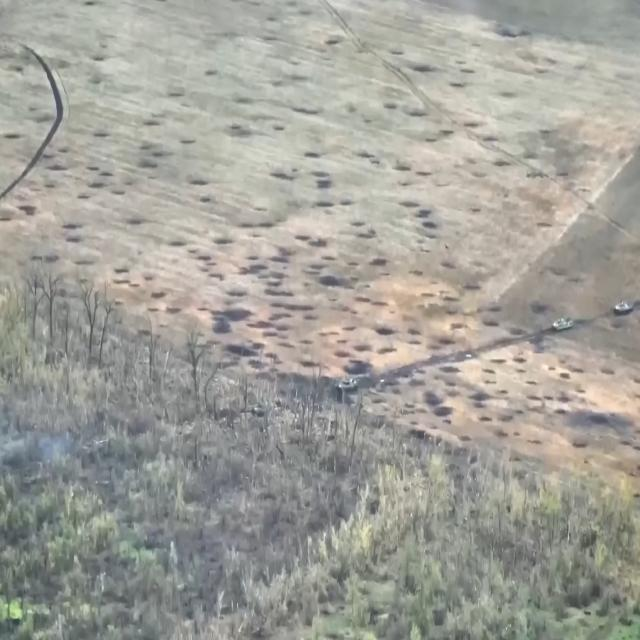AIFV: (551, 315, 575, 336), (614, 299, 635, 320)
MBT: (335, 375, 361, 394)
